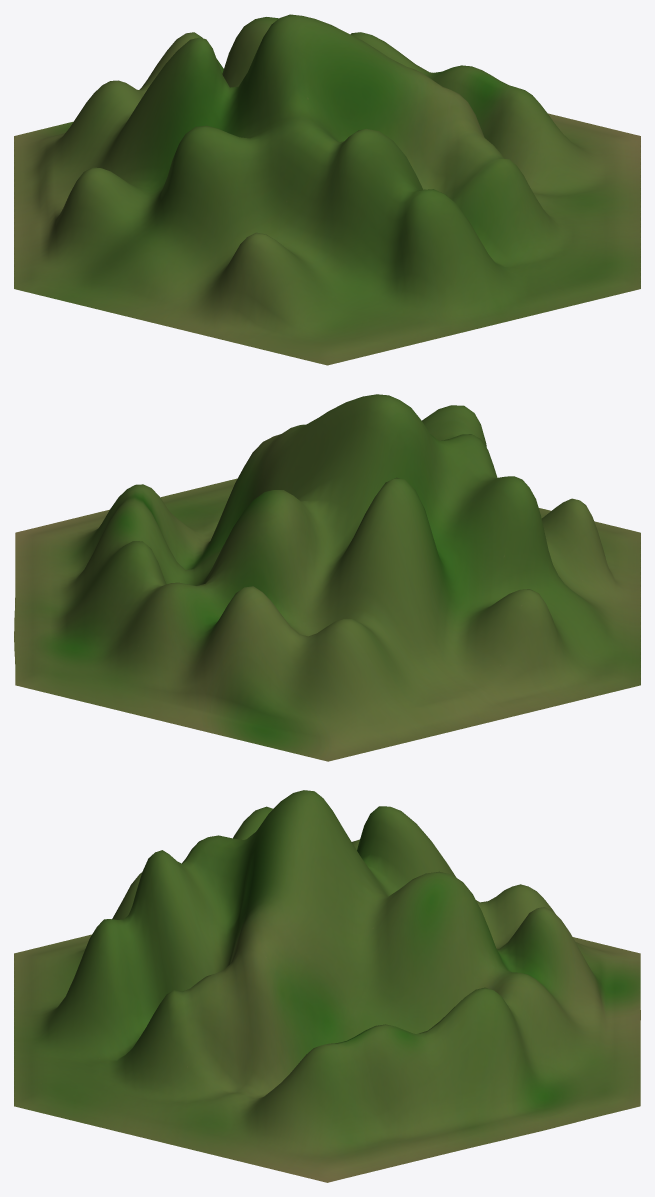
File: Mountain1A.glb
The picture shows the model from 3 angles, top to bottom: view 1: azimuth 30°, elevation 25°; view 2: azimuth 150°, elevation 25°; view 3: azimuth 270°, elevation 25°; orthographic projection.
Visible parts, largest first — view 1: Circle; view 2: Circle; view 3: Circle.
Part boxes in pixels (x1=…): Circle: x1=14, y1=14, x2=640, y2=365; Circle: x1=14, y1=394, x2=640, y2=761; Circle: x1=14, y1=790, x2=640, y2=1182.
Size of the model in its own units: 400 by 131 by 347.
Materials: 1 (1 with a texture image).
